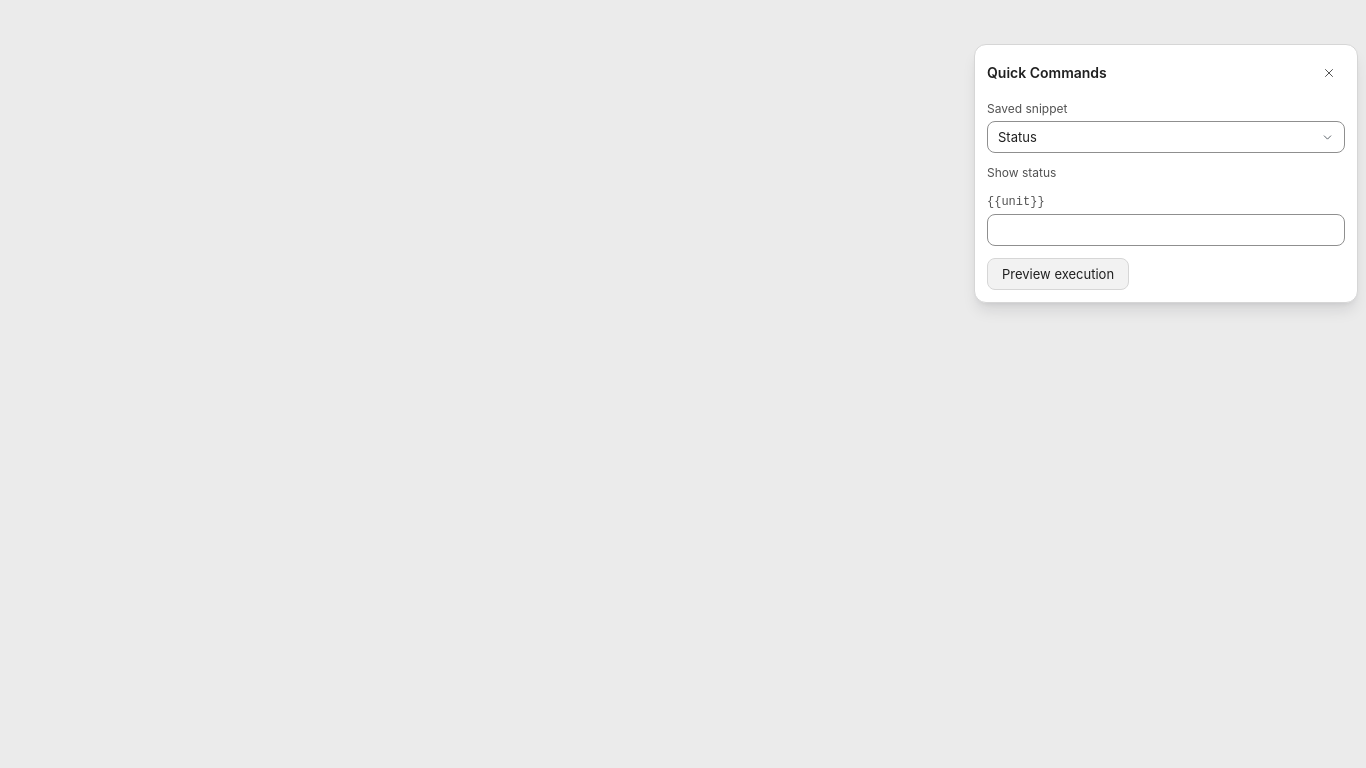
Test: TerminalQuickCommands › refreshes a changed preview and requires another click before delivery
In the field: [1166, 230] box [987,214,1345,246], type "sshd"
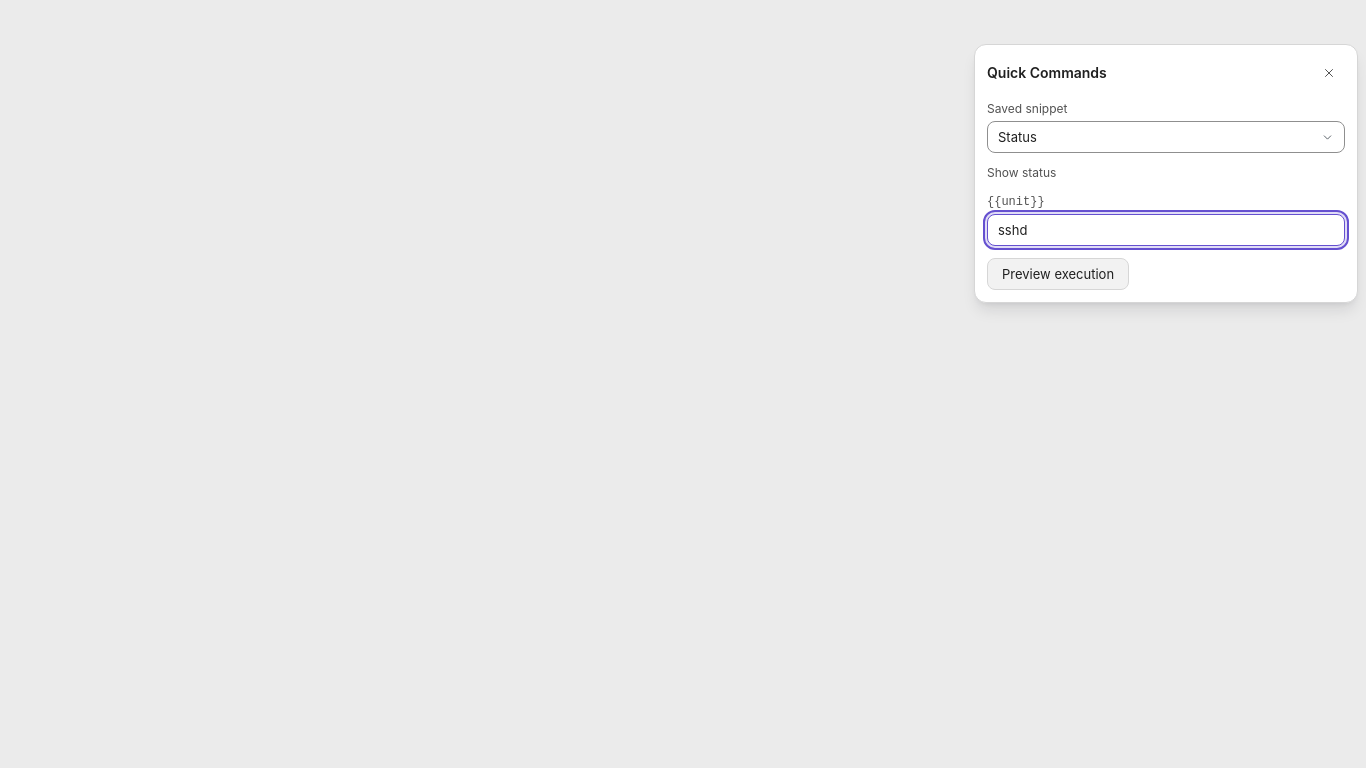
Click the button "Preview execution": [1058, 274] box [987,258,1129,290]
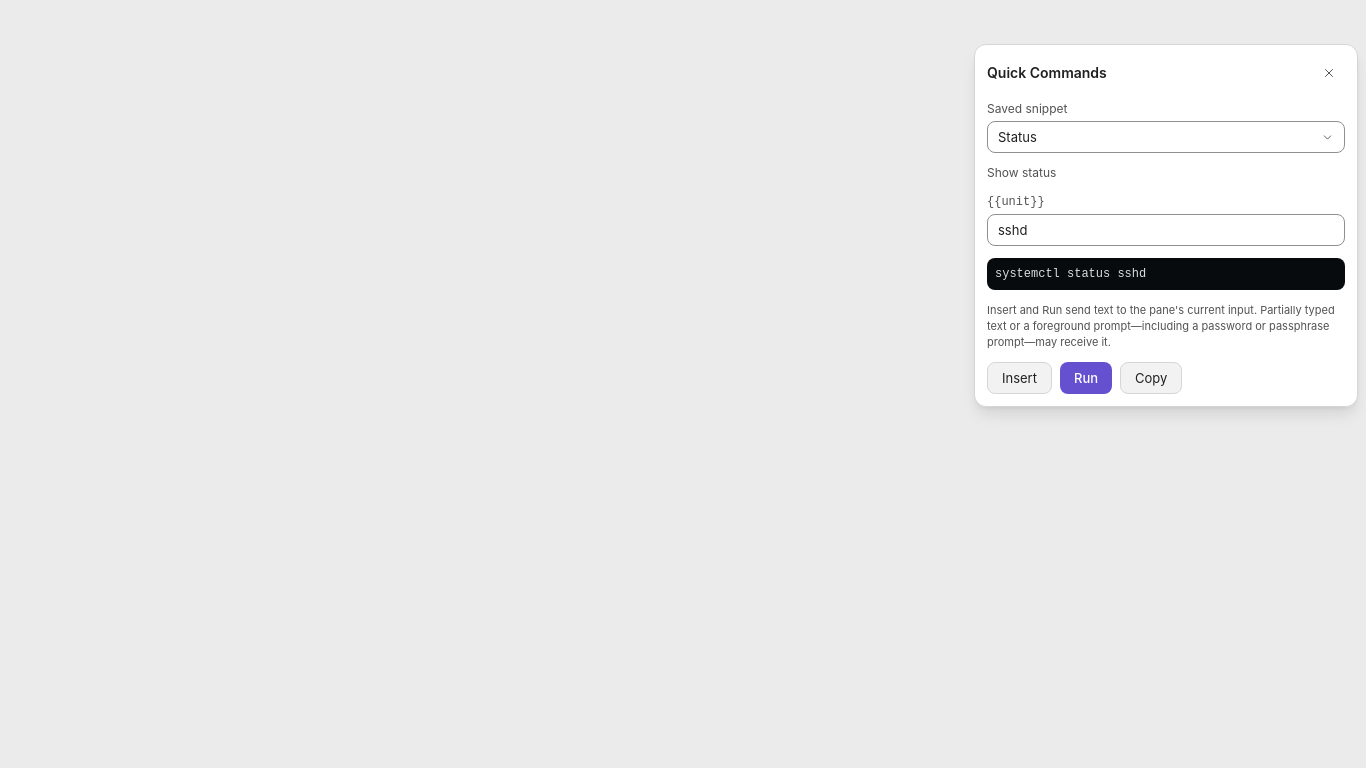
Click the button "Run": [1086, 378] box [1060,362,1112,394]
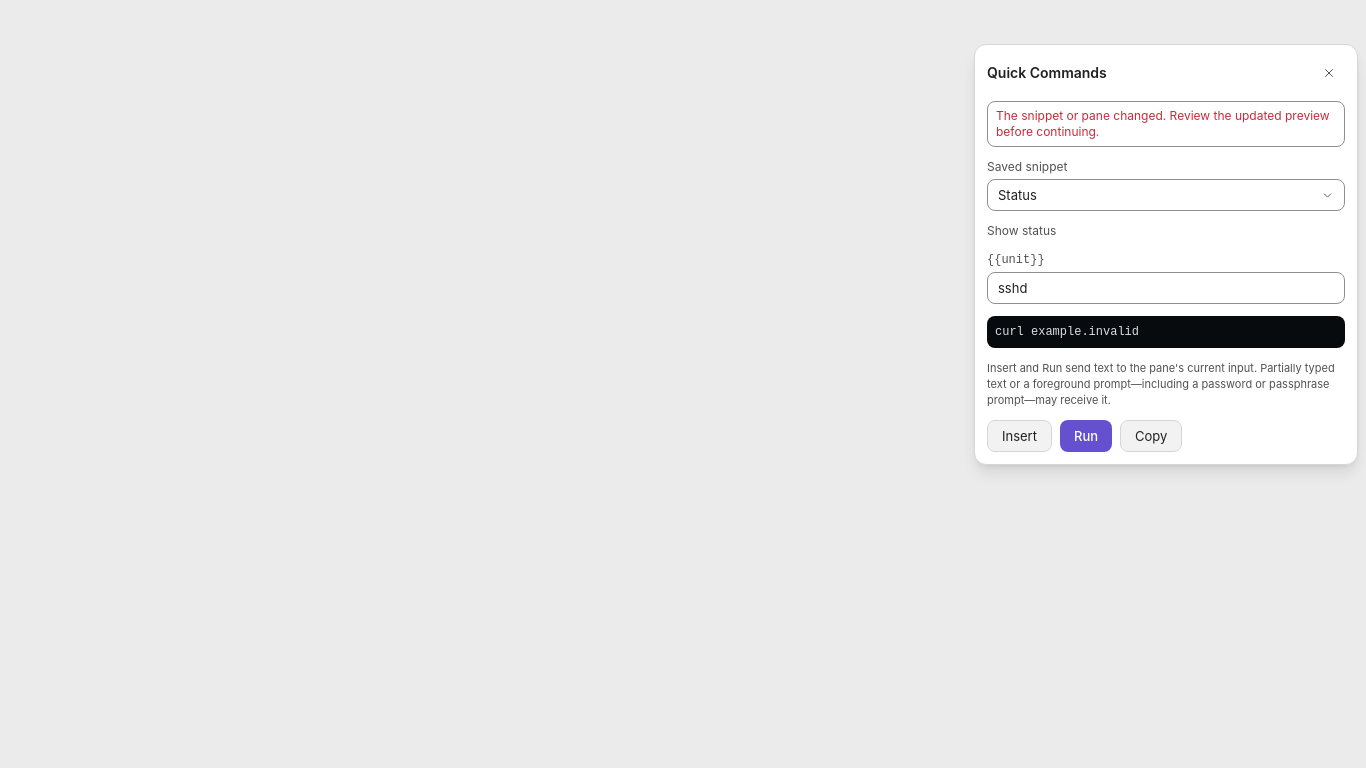
Check: the text "curl example.invalid" is shown, box [987,316,1345,348]
Check: the message shows "The snippet or pane changed", box [996,108,1330,139]
